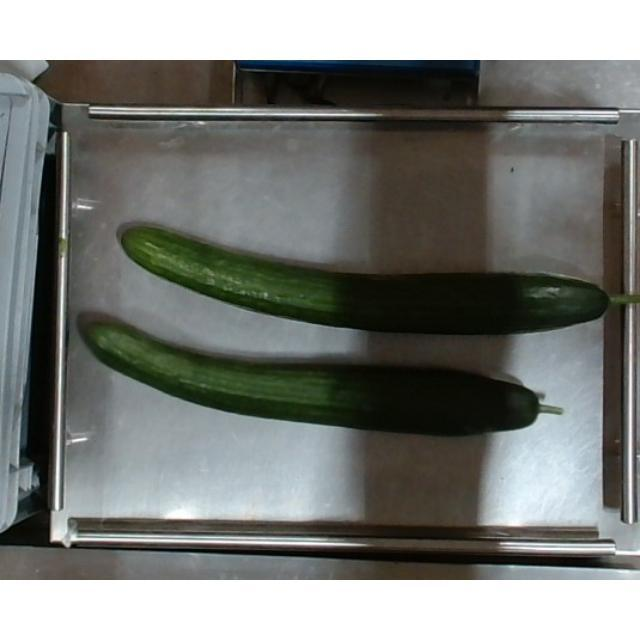cucumber: (118, 221, 640, 333), (79, 317, 563, 435)
